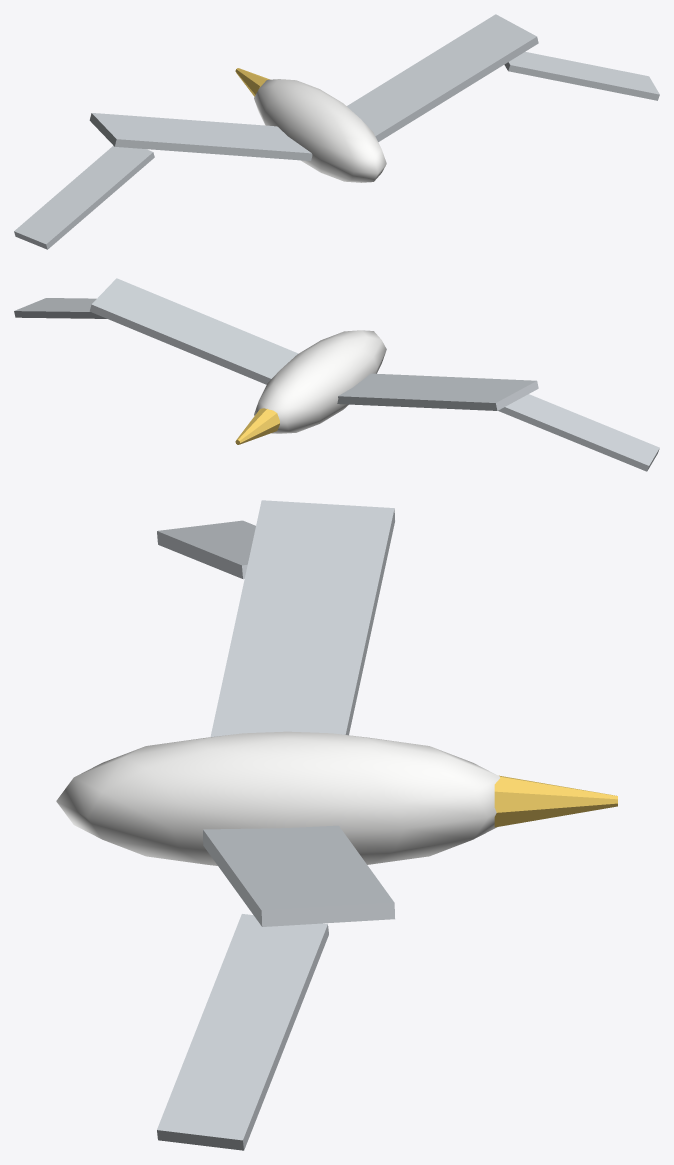
Rendered from Seagull_Bird.fbx.
3 renders of one model, top to bottom at view 1: azimuth 30°, elevation 25°; view 2: azimuth 150°, elevation 25°; view 3: azimuth 270°, elevation 25°, orthographic. The views are drawn at different scales.
Parts seen in each view (by area): view 1: Cube.002, Sphere, Cube, Cube.001, Cube.003, Cone; view 2: Cube.002, Sphere, Cube, Cube.001, Cube.003, Cone; view 3: Sphere, Cube, Cube.003, Cube.002, Cone, Cube.001.
Boxes of the visible parts, bbox=[...] form: Cube.002: bbox=[347, 14, 538, 141]; Sphere: bbox=[254, 79, 386, 182]; Cube: bbox=[89, 113, 312, 160]; Cube.001: bbox=[14, 146, 154, 249]; Cube.003: bbox=[504, 51, 659, 100]; Cone: bbox=[235, 68, 269, 96]; Cube.002: bbox=[89, 278, 298, 384]; Sphere: bbox=[254, 330, 386, 433]; Cube: bbox=[337, 373, 538, 410]; Cube.001: bbox=[498, 394, 659, 471]; Cube.003: bbox=[14, 298, 106, 318]; Cone: bbox=[235, 408, 279, 444]; Sphere: bbox=[56, 731, 499, 865]; Cube: bbox=[210, 500, 394, 737]; Cube.003: bbox=[157, 914, 328, 1150]; Cube.002: bbox=[203, 825, 394, 926]; Cone: bbox=[494, 775, 617, 827]; Cube.001: bbox=[157, 520, 255, 579].
Size of the model in its own units: 2.62 by 0.3113 by 1.
